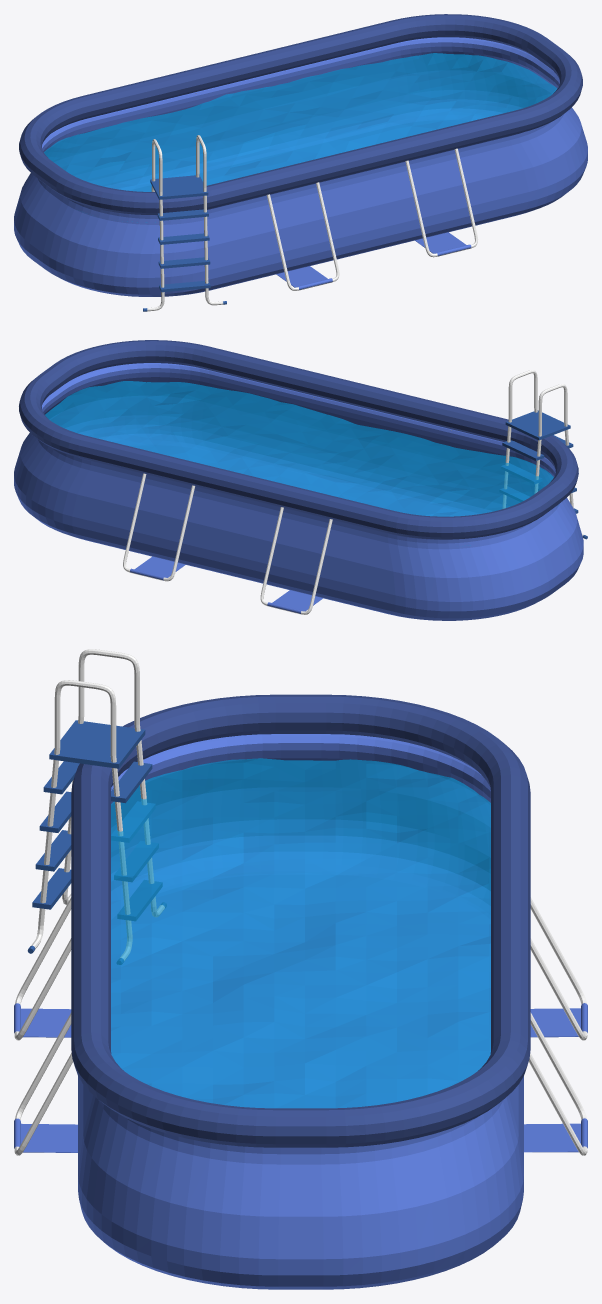
The model's file is rectangle-swimming-pool.glb.
The picture shows the model from 3 angles, top to bottom: view 1: azimuth 30°, elevation 25°; view 2: azimuth 150°, elevation 25°; view 3: azimuth 270°, elevation 25°; orthographic projection. The views are drawn at different scales.
Size of the model in its own units: 500 by 140 by 276.
